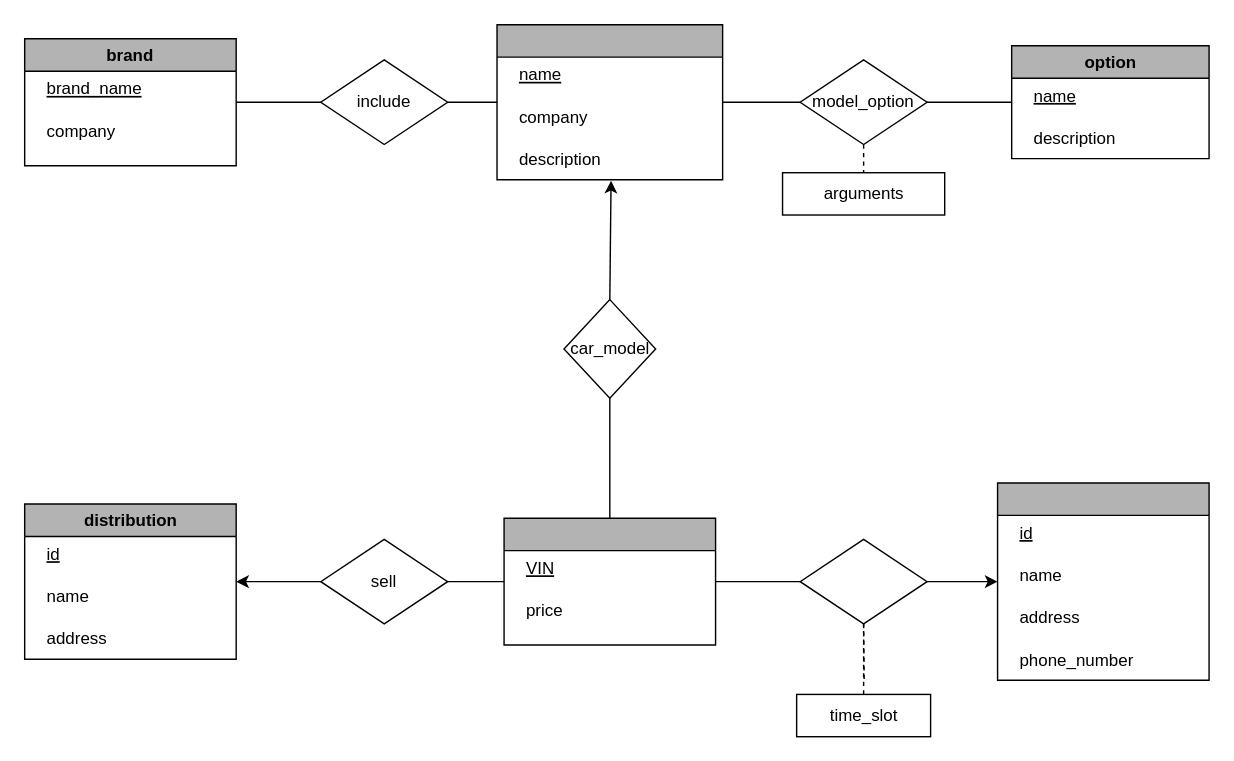
The diagram is 1234 pixels wide and 761 high, and some of its shapes have lost their labels. The box of each missing label's shape, as (x1, y1, x2, y2) in pixels:
buy: (799, 538, 927, 624)
car: (503, 517, 716, 645)
customer: (996, 482, 1209, 680)
model: (496, 23, 723, 180)
